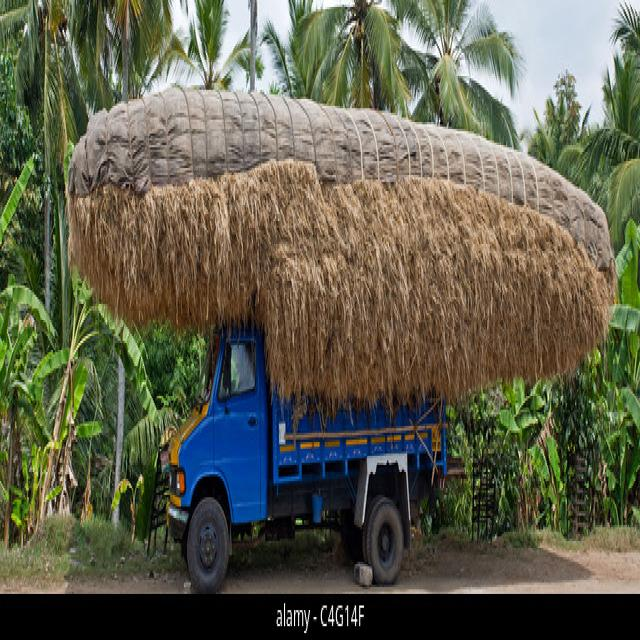goods: (67, 87, 619, 419)
truck: (167, 329, 448, 592)
